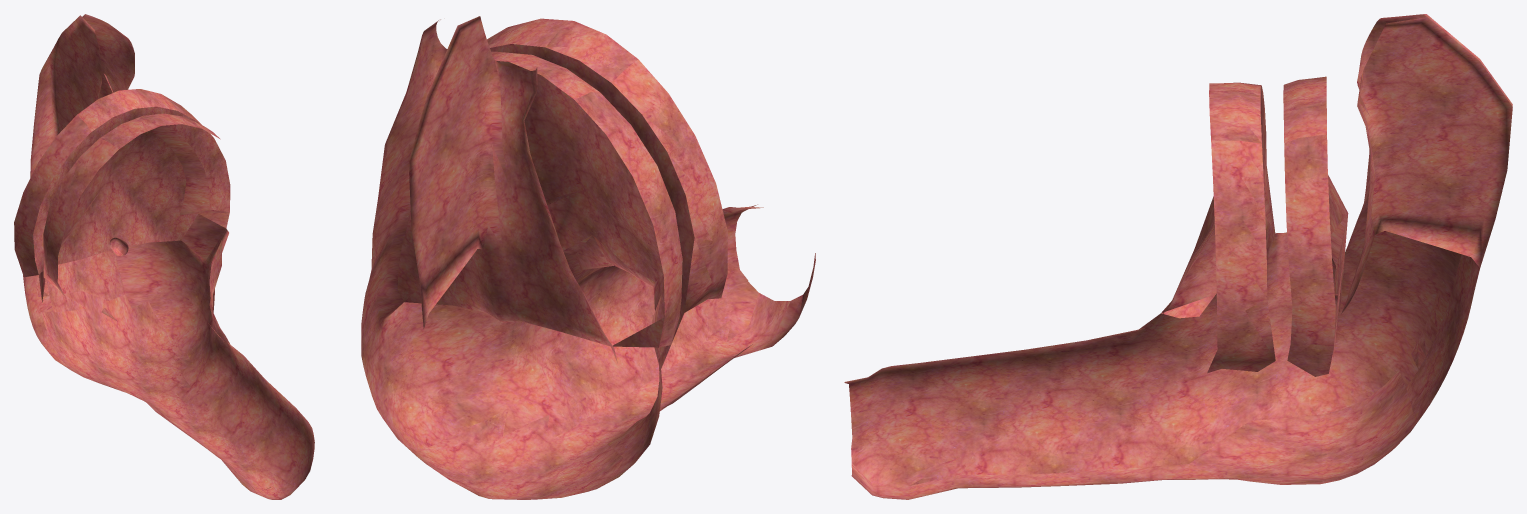
The model's file is bronco_new_30_3.glb.
3 views of the same model, side by side, from view 1: azimuth 30°, elevation 25°; view 2: azimuth 150°, elevation 25°; view 3: azimuth 270°, elevation 25° (orthographic). The views are drawn at different scales.
Visible parts, largest first — view 1: Boca/Garganta; view 2: Boca/Garganta; view 3: Boca/Garganta.
Part boxes in pixels (left/top/right/bottom): Boca/Garganta: left=14, top=14, right=314, bottom=499; Boca/Garganta: left=361, top=16, right=815, bottom=499; Boca/Garganta: left=844, top=14, right=1512, bottom=499.
Bounding box in the file's own units: 7.82 × 12.55 × 15.82.
1 material, 1 textured.
